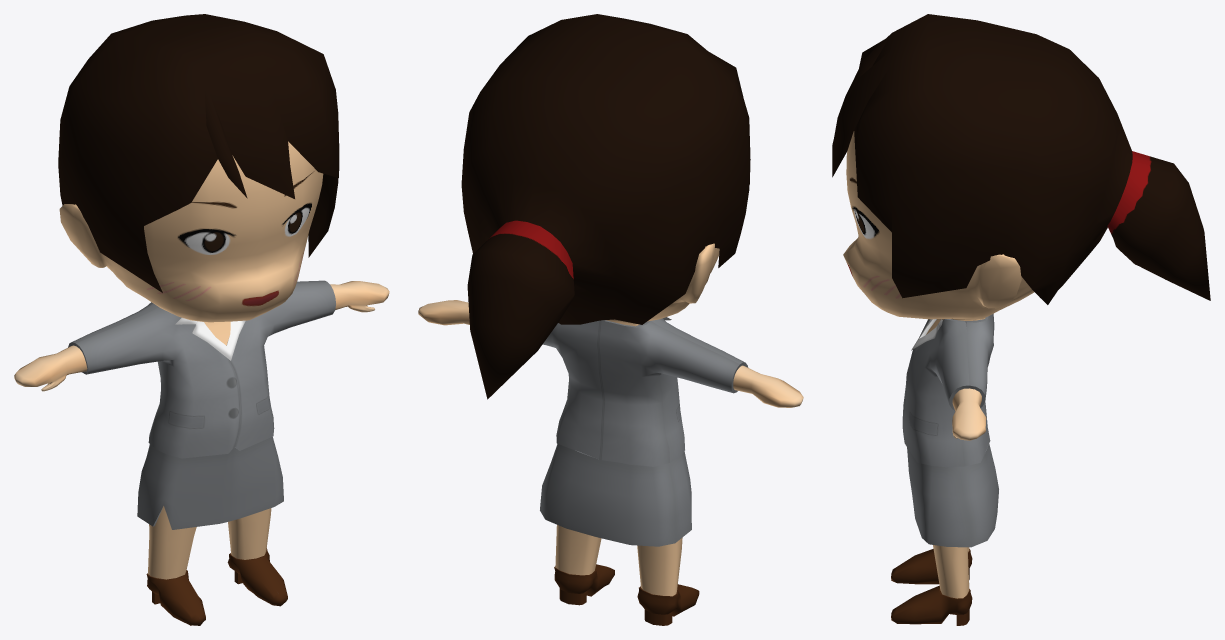
File: girl_npc.fbx
The picture shows the model from 3 angles, left to right: view 1: azimuth 30°, elevation 25°; view 2: azimuth 150°, elevation 25°; view 3: azimuth 270°, elevation 25°; orthographic projection. The views are drawn at different scales.
Parts seen in each view (by area): view 1: hair_npc, body_npc, fuku_npc1; view 2: hair_npc, fuku_npc1, body_npc; view 3: hair_npc, fuku_npc1, body_npc.
Boxes of the visible parts, x1,y1,x2,y2 form: hair_npc: (58, 14, 339, 292); body_npc: (14, 141, 389, 625); fuku_npc1: (68, 280, 335, 529); hair_npc: (461, 14, 750, 399); fuku_npc1: (540, 317, 748, 546); body_npc: (418, 243, 803, 625); hair_npc: (832, 14, 1210, 304); fuku_npc1: (902, 314, 998, 547); body_npc: (843, 131, 1034, 625).
Size of the model in its own units: 13.87 by 20.05 by 12.16.
